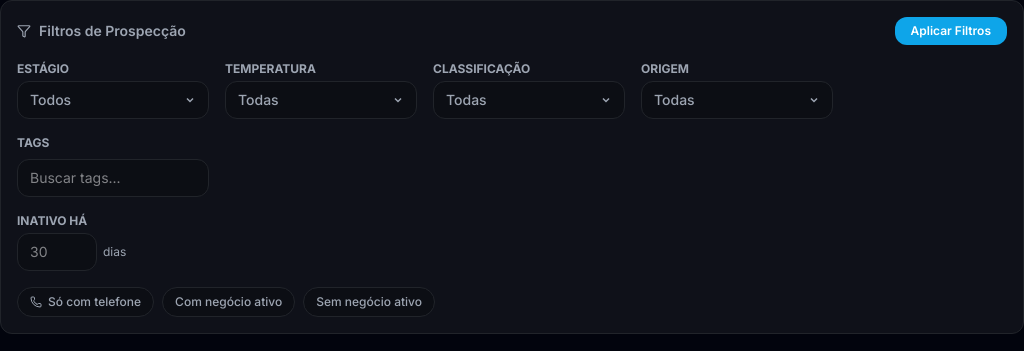
Test: ProspectingFilters › renders all stage options
Click the button "Todos" at (113, 100), box top-left (17, 81), bottom-right (209, 119)
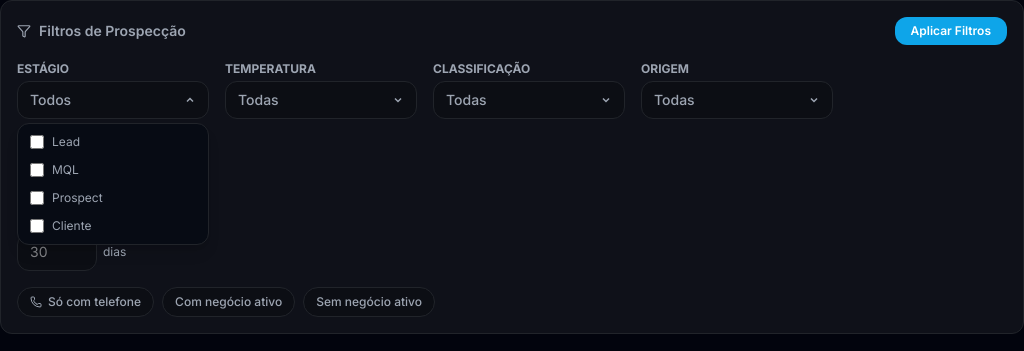
Result: the text "Lead" is shown at top-left (30, 134), bottom-right (80, 149)
Result: the text "MQL" is shown at top-left (30, 162), bottom-right (79, 177)
Result: the text "Prospect" is shown at top-left (30, 190), bottom-right (103, 205)
